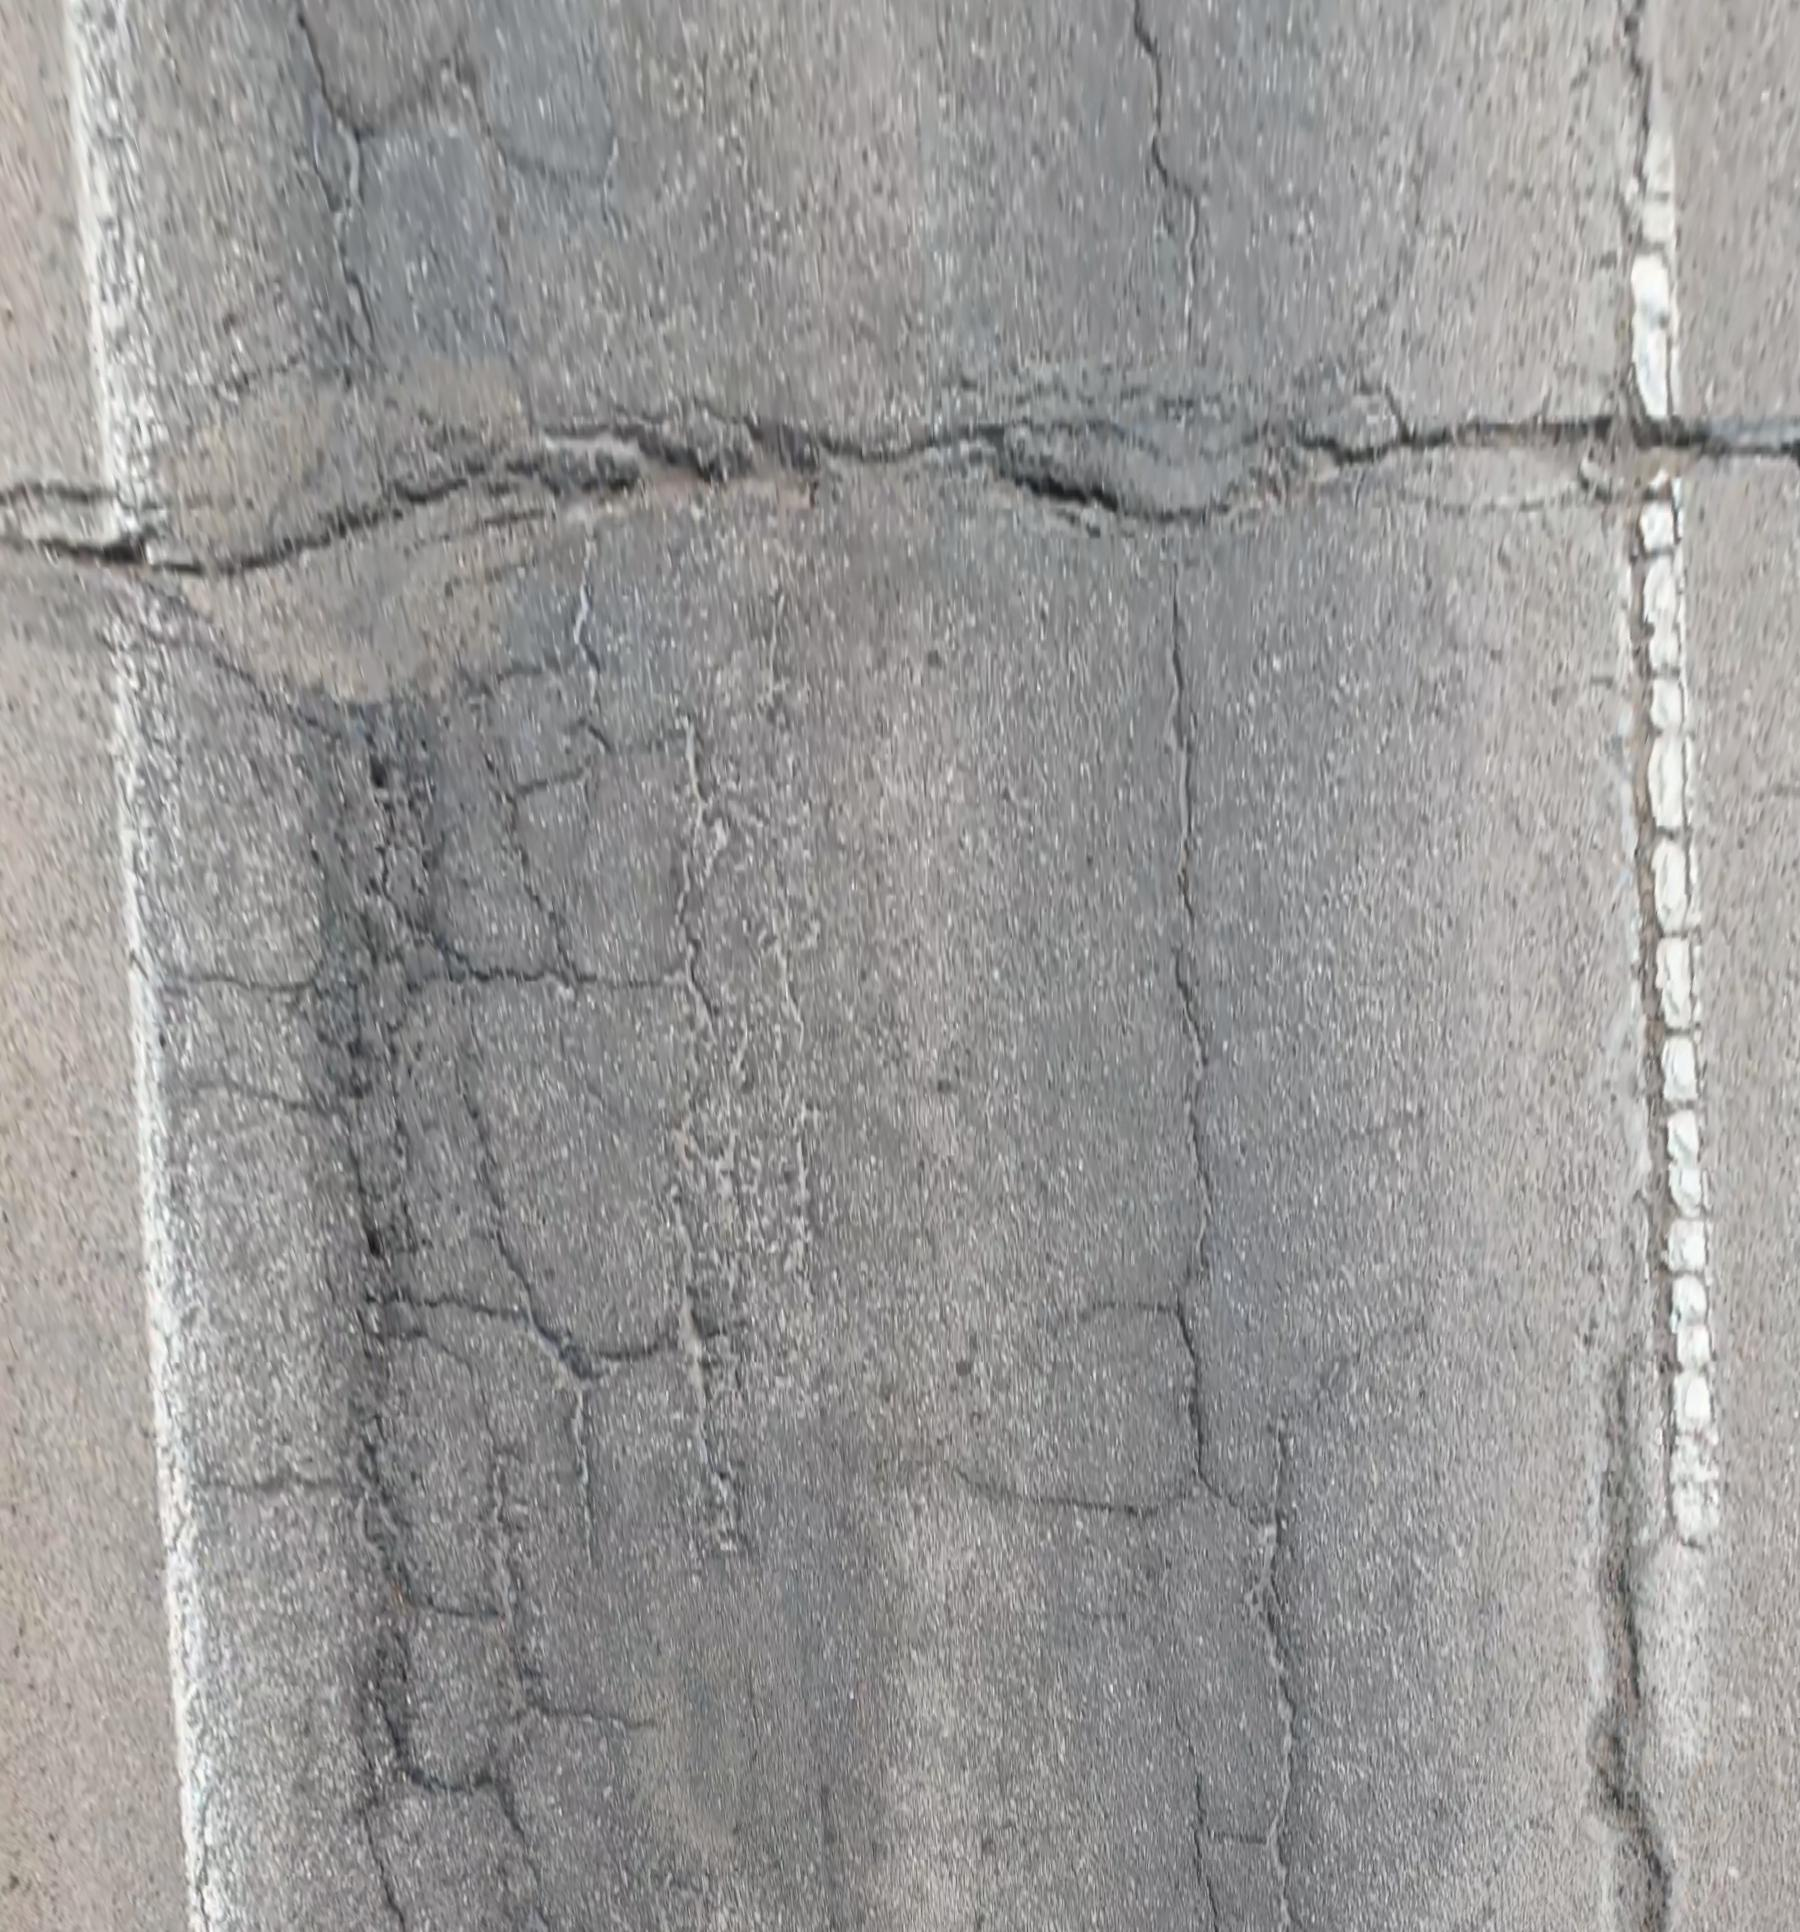pothole: (1367, 411, 1710, 514)
